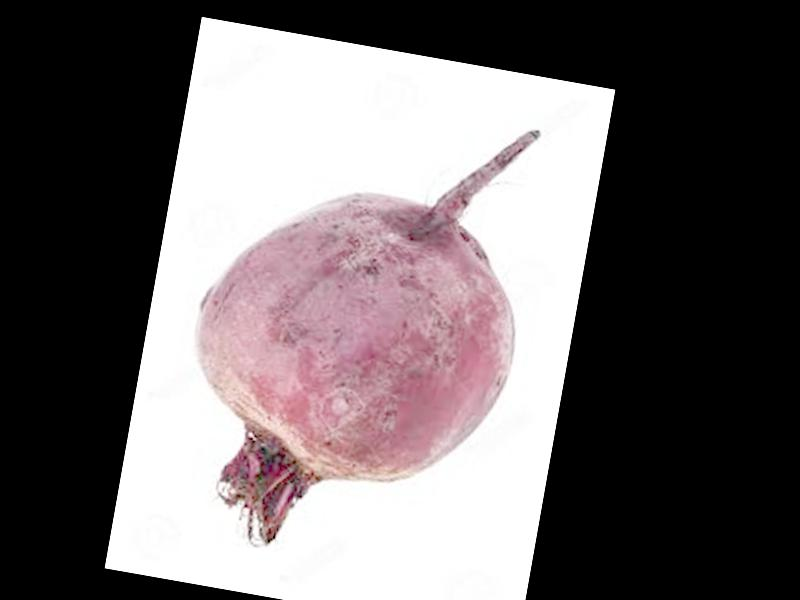Beet: (165, 83, 549, 581)
